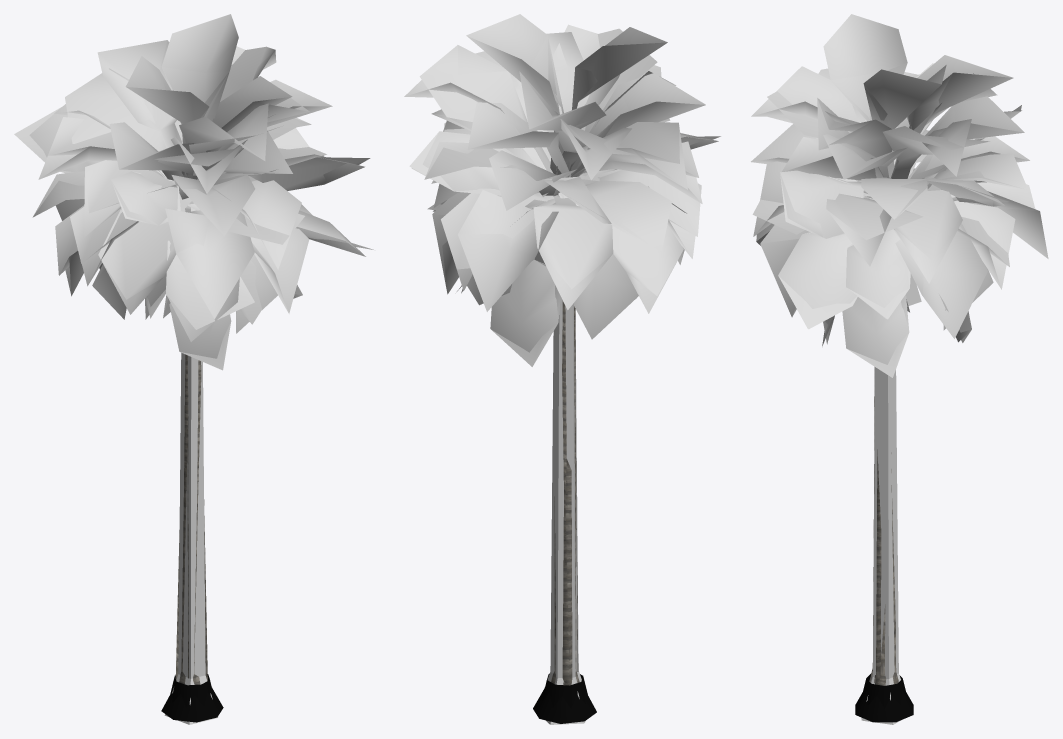
The model's file is fanpalm_tall.dae.
The picture shows the model from 3 angles, left to right: view 1: azimuth 30°, elevation 25°; view 2: azimuth 150°, elevation 25°; view 3: azimuth 270°, elevation 25°; orthographic projection. The views are drawn at different scales.
Parts seen in each view (by area): view 1: fanpalm_tall_a400, fanpalm_tall_a150, Colmesh_fanpalm_tall-1; view 2: fanpalm_tall_a150, fanpalm_tall_a400, Colmesh_fanpalm_tall-1; view 3: fanpalm_tall_a400, fanpalm_tall_a150, Colmesh_fanpalm_tall-1.
Part boxes in pixels (<box>): fanpalm_tall_a400: <box>29,14,365,722</box>; fanpalm_tall_a150: <box>14,40,373,680</box>; Colmesh_fanpalm_tall-1: <box>164,353,218,724</box>; fanpalm_tall_a150: <box>409,28,720,685</box>; fanpalm_tall_a400: <box>404,14,718,723</box>; Colmesh_fanpalm_tall-1: <box>546,298,585,724</box>; fanpalm_tall_a400: <box>751,14,1038,722</box>; fanpalm_tall_a150: <box>751,63,1048,684</box>; Colmesh_fanpalm_tall-1: <box>861,367,900,724</box>.
Size of the model in its own units: 9.88 by 9.04 by 22.37.
